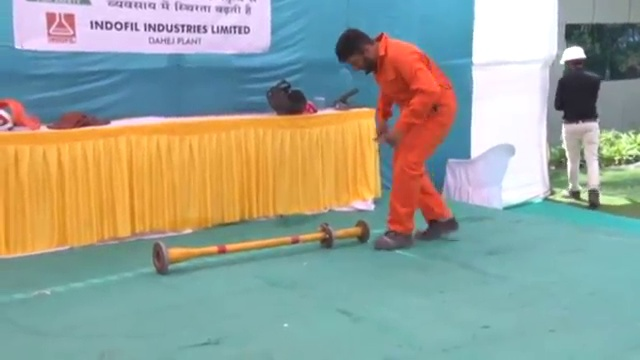helmet: (558, 45, 587, 65)
helmet_off: (333, 26, 382, 80)
helmet_on: (557, 43, 588, 74)
person: (330, 25, 460, 253), (552, 43, 605, 206)
